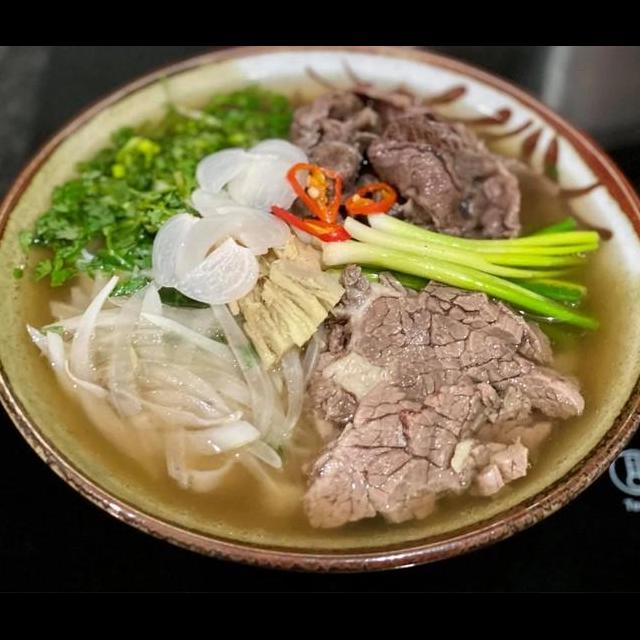banh pho: (18, 244, 290, 500)
pho bo: (0, 83, 640, 591)
thit bo: (298, 260, 568, 477), (298, 346, 532, 534), (354, 104, 528, 250), (274, 80, 443, 226)
